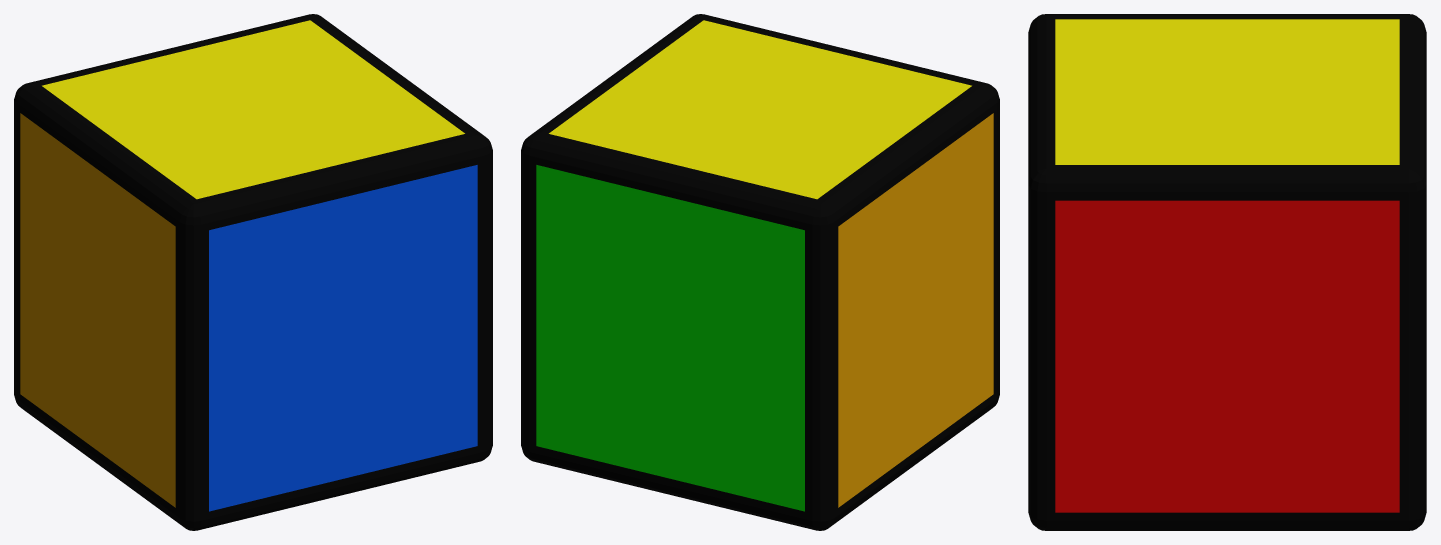
The model's file is piecef.gltf.
3 views of the same model, side by side, from view 1: azimuth 30°, elevation 25°; view 2: azimuth 150°, elevation 25°; view 3: azimuth 270°, elevation 25° (orthographic). The views are drawn at different scales.
Parts seen in each view (by area): view 1: Cube-Mat.2, Cube-Mat.6, Cube-Mat.4, Cube-Mat; view 2: Cube-Mat.3, Cube-Mat.6, Cube-Mat.4, Cube-Mat; view 3: Cube-Mat.1, Cube-Mat, Cube-Mat.6.
Boxes of the visible parts, x1,y1,x2,y2 form: Cube-Mat.2: [209, 165, 477, 511]; Cube-Mat.6: [14, 14, 492, 530]; Cube-Mat.4: [20, 113, 175, 507]; Cube-Mat: [42, 20, 464, 199]; Cube-Mat.3: [536, 165, 804, 511]; Cube-Mat.6: [521, 14, 999, 530]; Cube-Mat.4: [838, 113, 993, 507]; Cube-Mat: [549, 20, 971, 199]; Cube-Mat.1: [1055, 200, 1399, 512]; Cube-Mat: [1055, 19, 1399, 164]; Cube-Mat.6: [1028, 14, 1426, 530].
Size of the model in its own units: 2 by 2 by 2.
